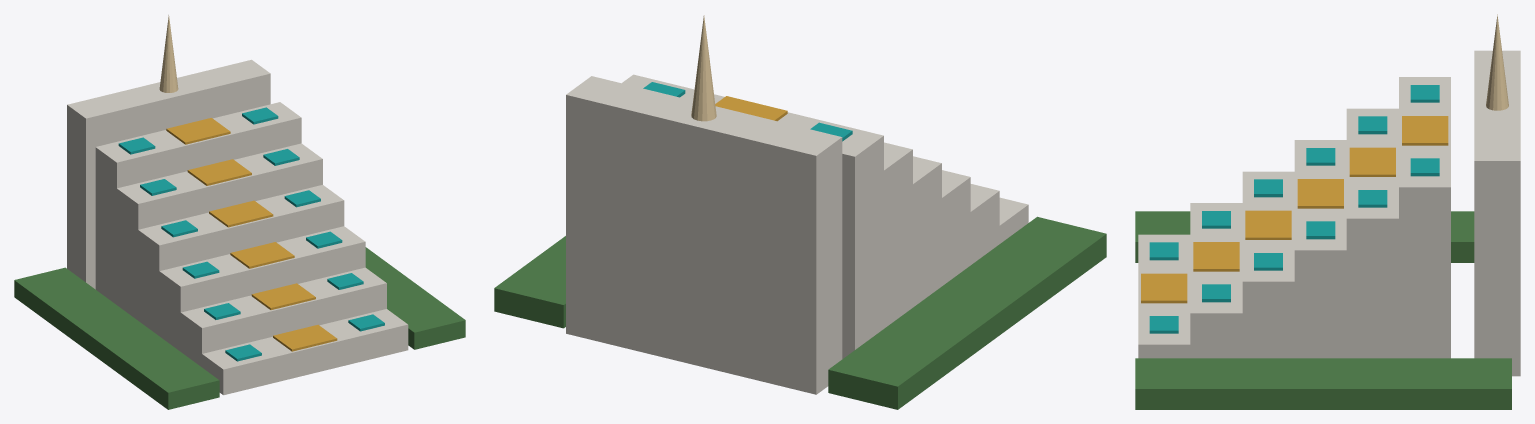
Rendered from cascade.glb.
The picture shows the model from 3 angles, left to right: view 1: azimuth 30°, elevation 25°; view 2: azimuth 150°, elevation 25°; view 3: azimuth 270°, elevation 25°; orthographic projection. The views are drawn at different scales.
Bounding box in the file's own units: 1.45 × 1.17 × 1.33.
